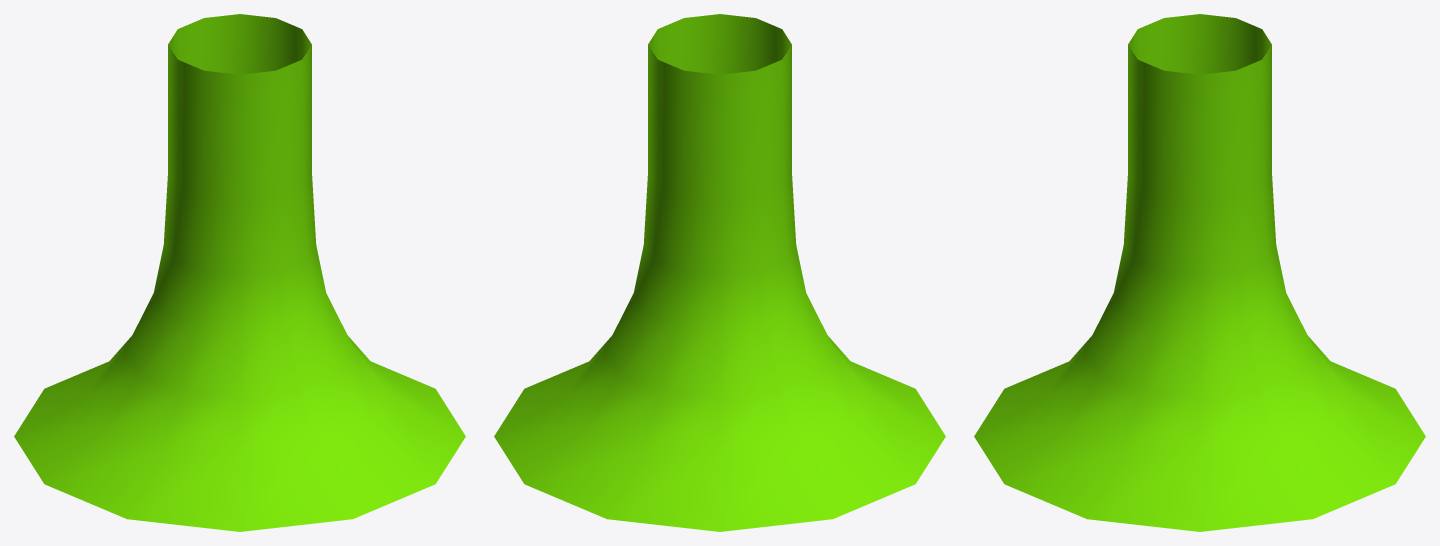
Rendered from GDT_FlowLiquid.fbx.
3 views of the same model, side by side, from view 1: azimuth 30°, elevation 25°; view 2: azimuth 150°, elevation 25°; view 3: azimuth 270°, elevation 25° (orthographic).
Parts seen in each view (by area): view 1: FlowLiquid; view 2: FlowLiquid; view 3: FlowLiquid.
Boxes of the visible parts, left/top/right/bottom form: FlowLiquid: left=14, top=14, right=465, bottom=531; FlowLiquid: left=494, top=14, right=945, bottom=531; FlowLiquid: left=974, top=14, right=1425, bottom=531.
Bounding box in the file's own units: 15.19 × 14.55 × 15.19.
